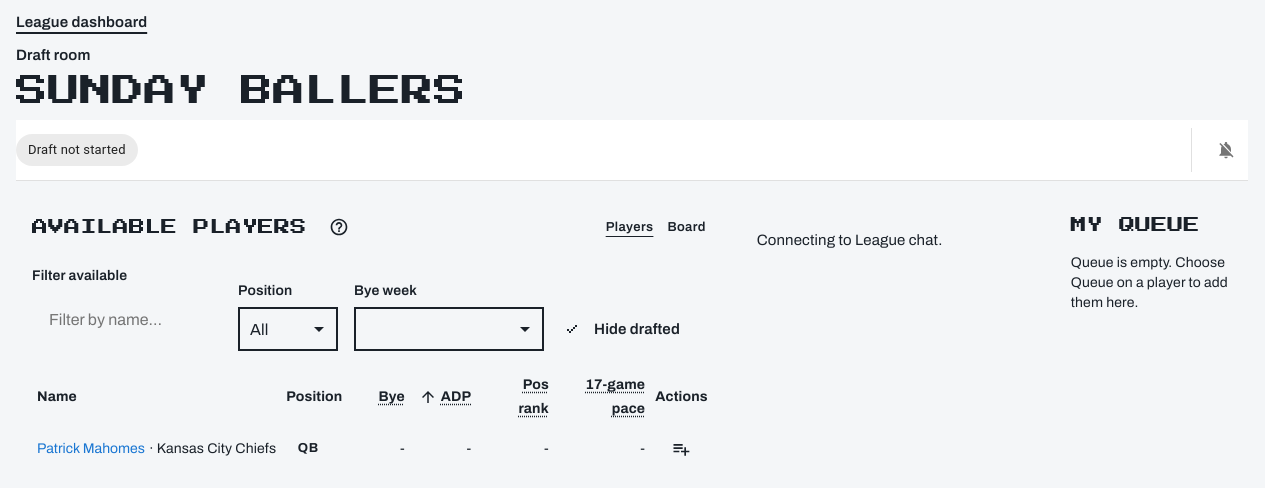
Test: shows "No picks yet" when the pick history is empty
Check: the button "Patrick Mahomes" is shown, box [37,427,145,471]
Check: the text "Draft not started" is shown, box [28,142,126,157]
Click the button "Board" at (686, 227), box [659,205,713,249]
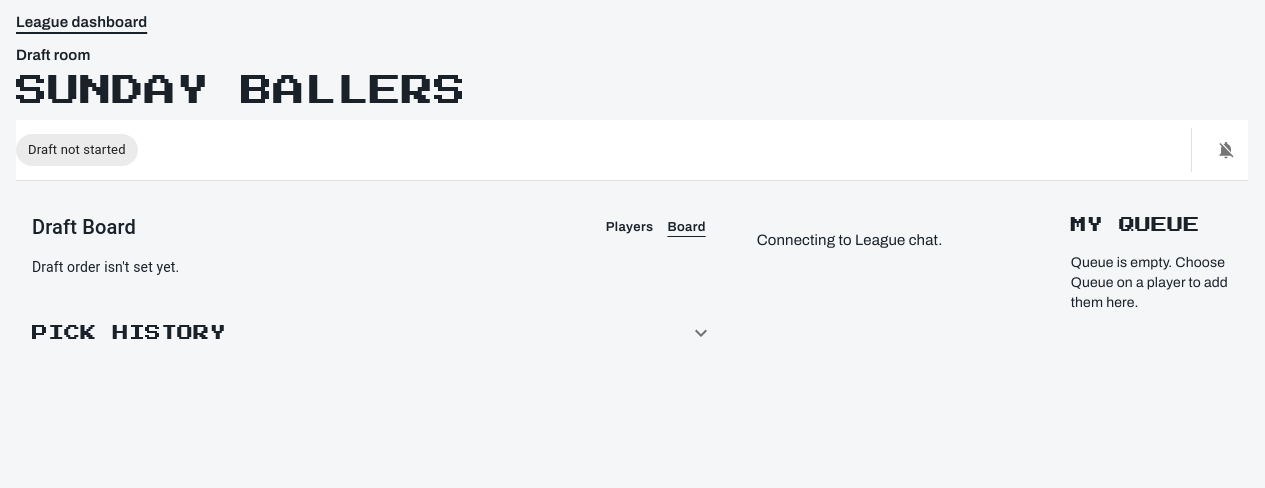
Click the button "Pick history" at (129, 333), box [32,321,713,345]
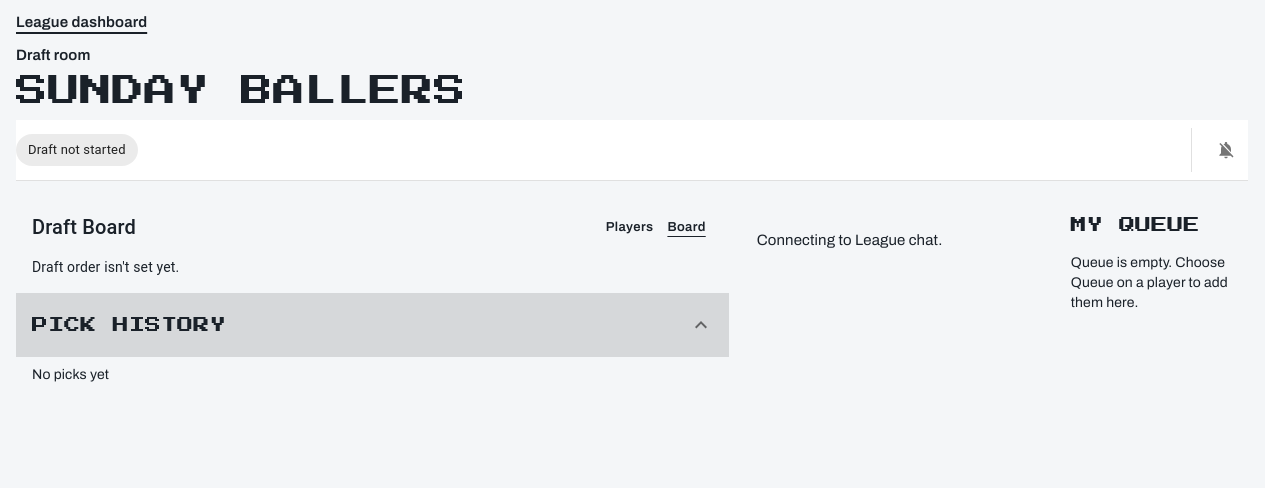
Check: the text "No picks yet" is shown, box [32,367,109,382]
